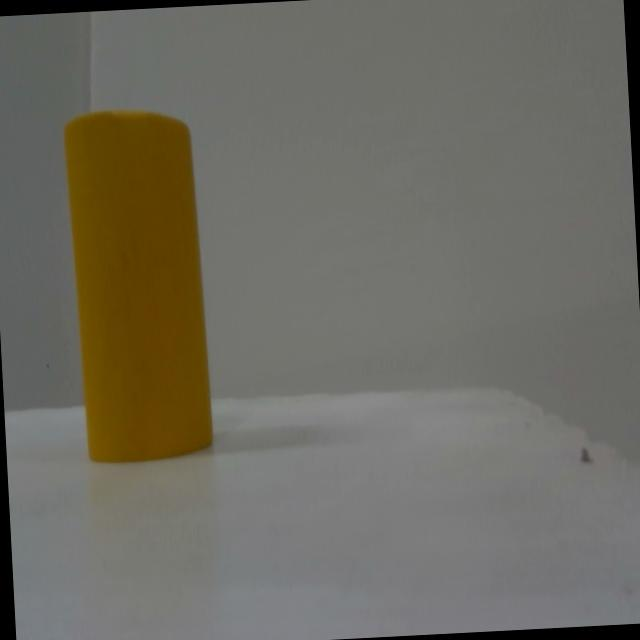yellow_cylinder: (65, 104, 212, 467)
